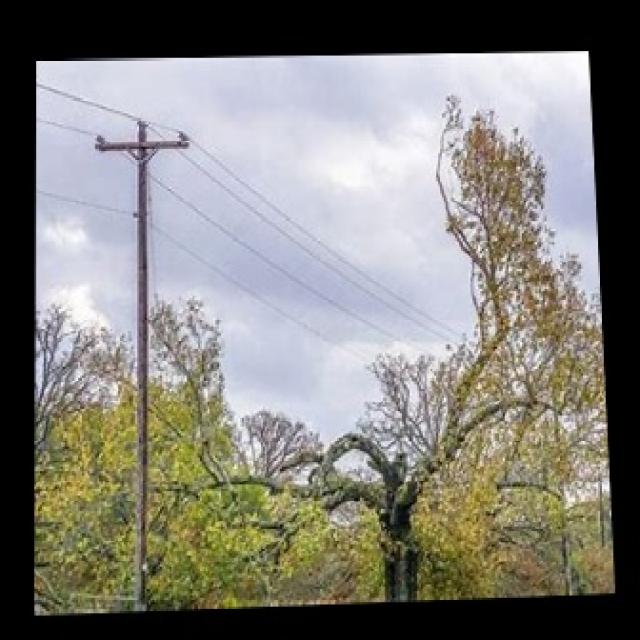utility poles: (91, 115, 186, 612)
